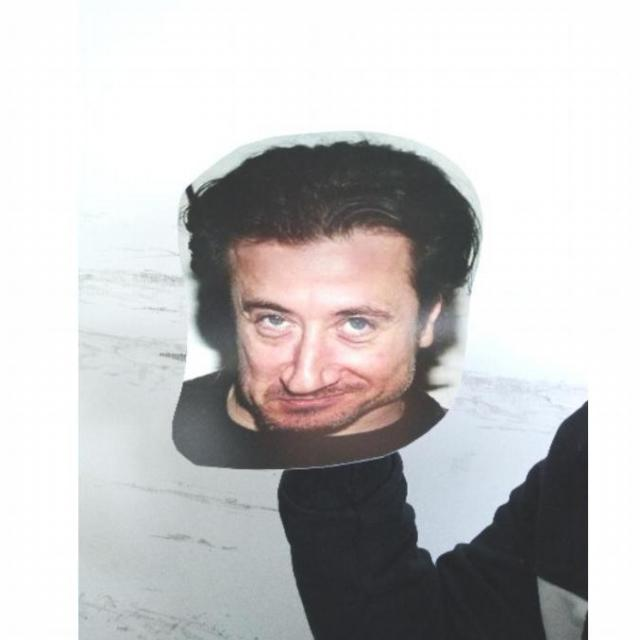photo: (159, 120, 495, 478)
